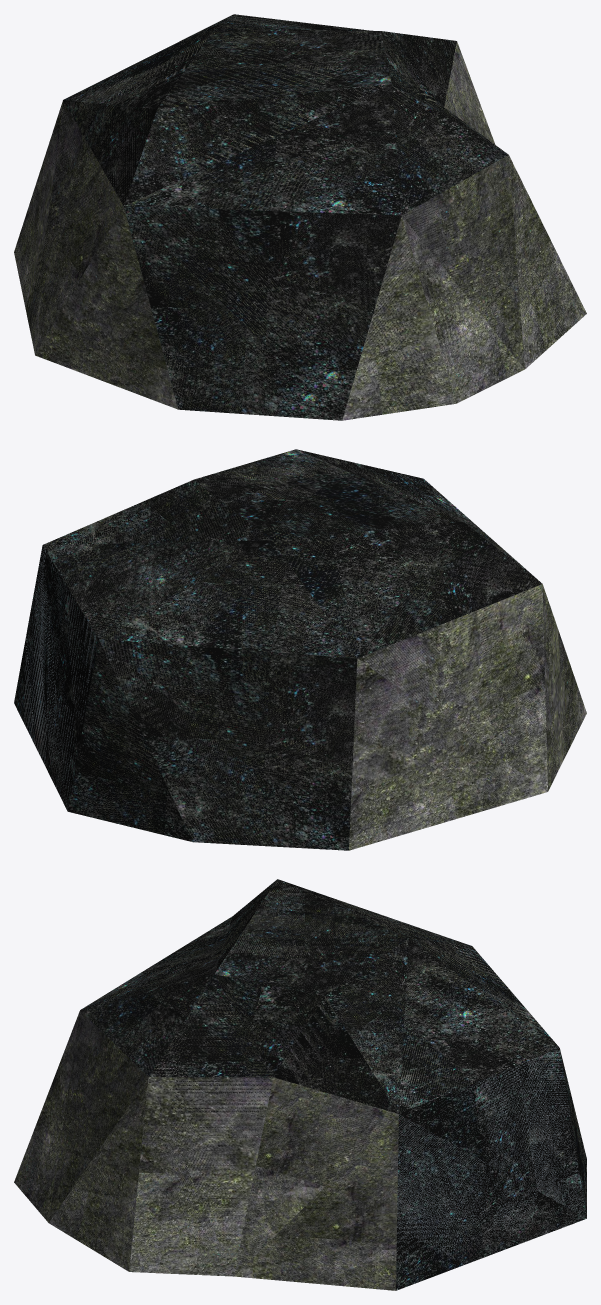
The model's file is stone2.dae.
The picture shows the model from 3 angles, top to bottom: view 1: azimuth 30°, elevation 25°; view 2: azimuth 150°, elevation 25°; view 3: azimuth 270°, elevation 25°; orthographic projection. The views are drawn at different scales.
Parts seen in each view (by area): view 1: SketchUp (×21); view 2: SketchUp (×15); view 3: SketchUp (×21).
Part boxes in pixels (<box>): SketchUp (×21): <box>14,14,586,420</box>; SketchUp (×15): <box>14,449,586,850</box>; SketchUp (×21): <box>14,879,586,1290</box>.
Bounding box in the file's own units: 34.05 × 35.21 × 15.35.
